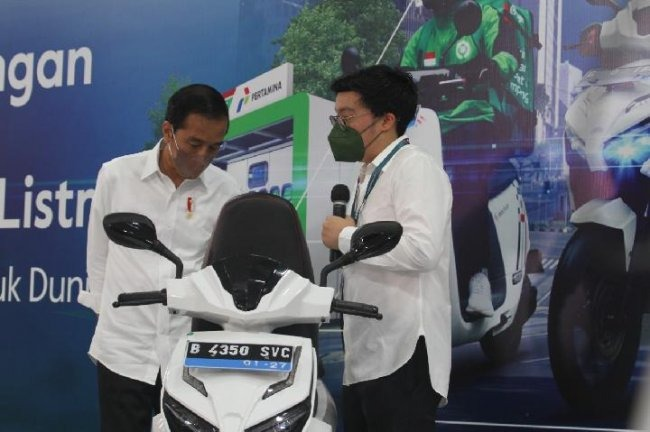plat nomor: (186, 341, 293, 373)
